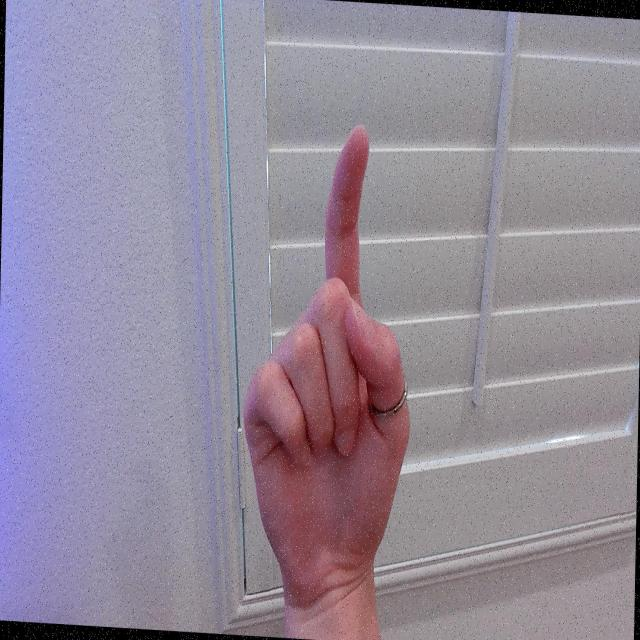Z: (238, 112, 420, 622)
